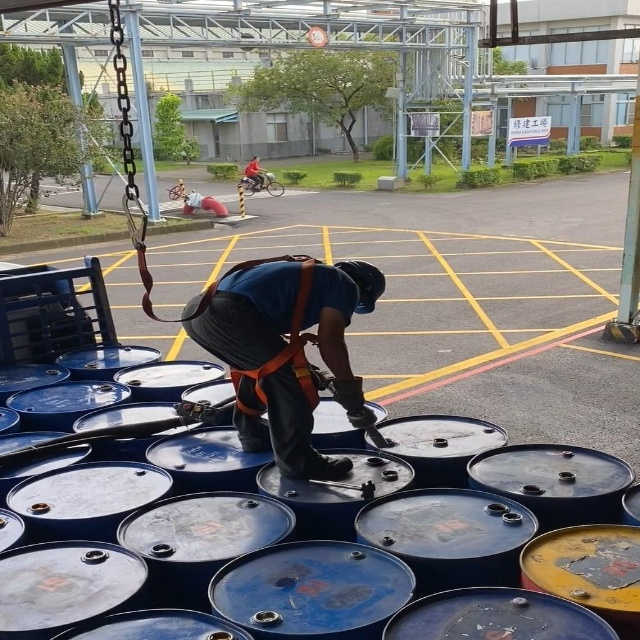Arnes_seguridad: (185, 254, 333, 417)
